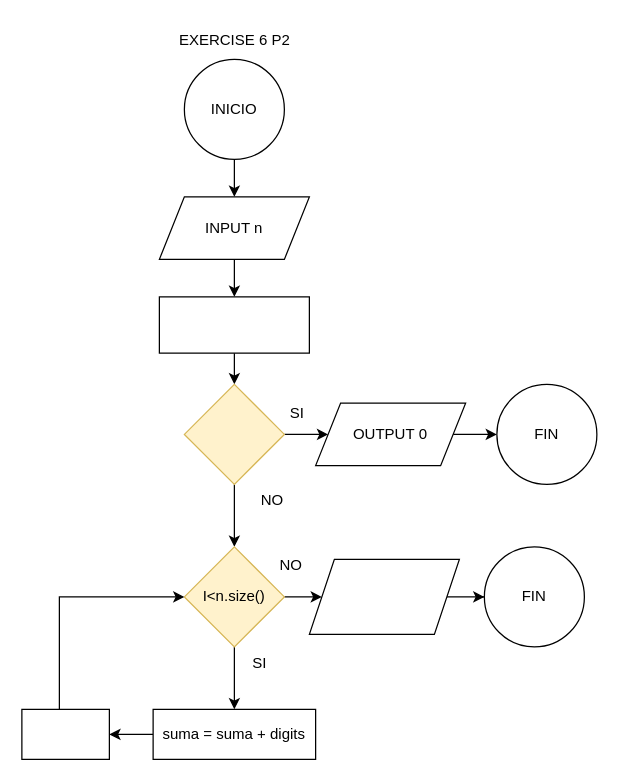
Some shapes in this 619 by 781 pixel diagram are drawn without their labels. The centre of each missing label's shape, as x and y in pixels:
"++i" goes at (x=65, y=733).
"n<=0" goes at (x=233, y=433).
"OUTPUT suma" goes at (x=383, y=596).
"suma = 0 i = 0" goes at (x=233, y=324).
